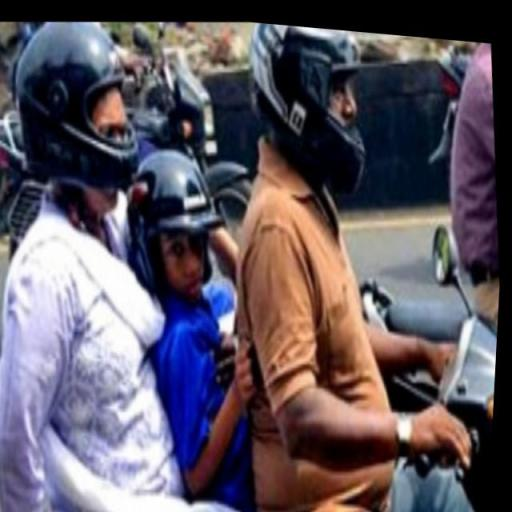Helmet: (4, 9, 158, 250), (237, 16, 378, 187), (136, 136, 232, 313)
Motor: (0, 208, 503, 512)
